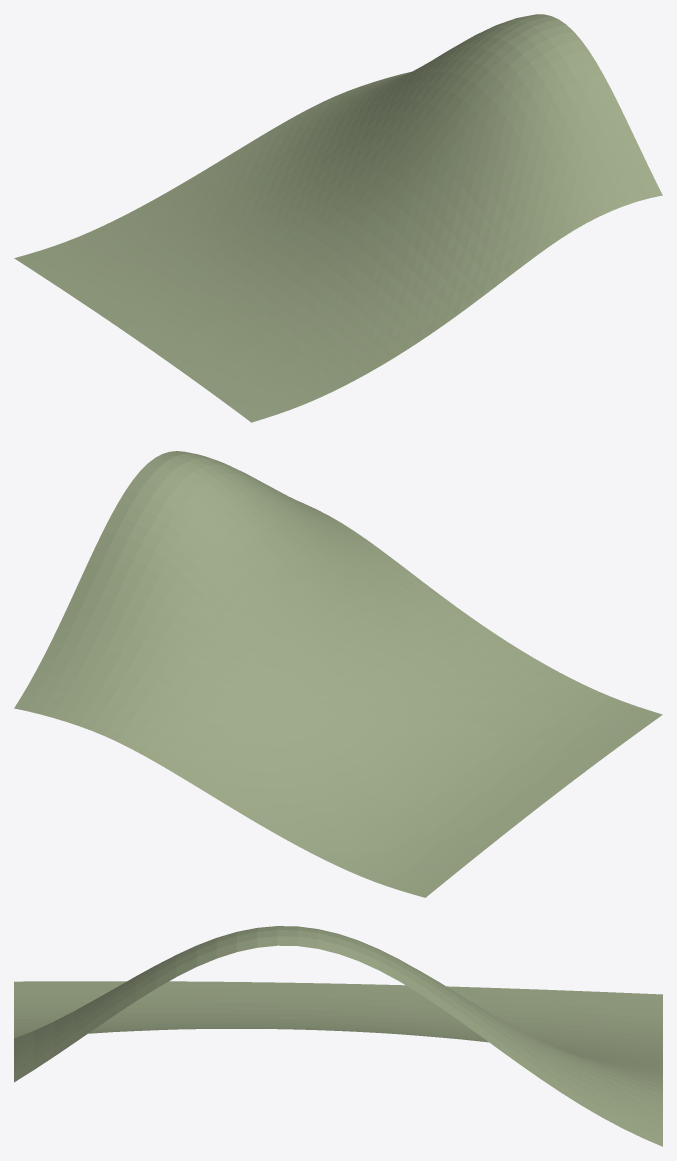
Rendered from canyon-3-2.glb.
3 renders of one model, top to bottom at view 1: azimuth 30°, elevation 25°; view 2: azimuth 150°, elevation 25°; view 3: azimuth 270°, elevation 25°, orthographic. The views are drawn at different scales.
Visible parts, largest first — view 1: canyon-3-2; view 2: canyon-3-2; view 3: canyon-3-2.
Boxes of the visible parts, x1=… form: canyon-3-2: x1=14, y1=14, x2=662, y2=422; canyon-3-2: x1=14, y1=451, x2=662, y2=897; canyon-3-2: x1=14, y1=926, x2=662, y2=1146.
Size of the model in its own units: 128 by 70.48 by 128.
